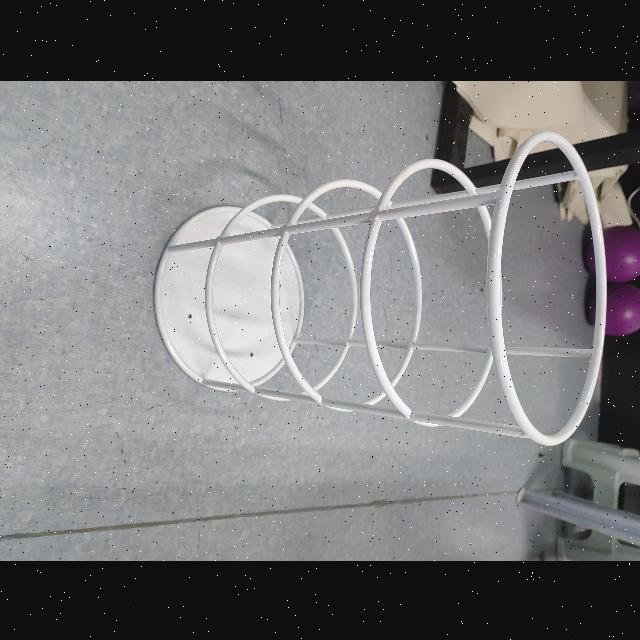S: (152, 126, 610, 450)
